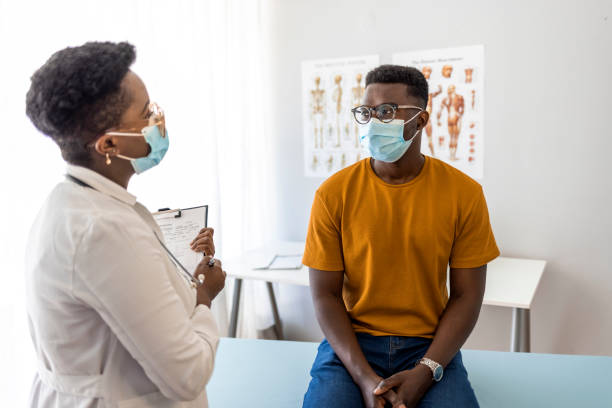with mask: (25, 38, 177, 181), (336, 58, 434, 168)
